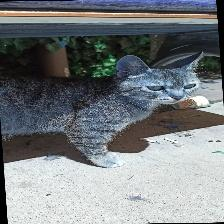kedo: (1, 54, 201, 166)
